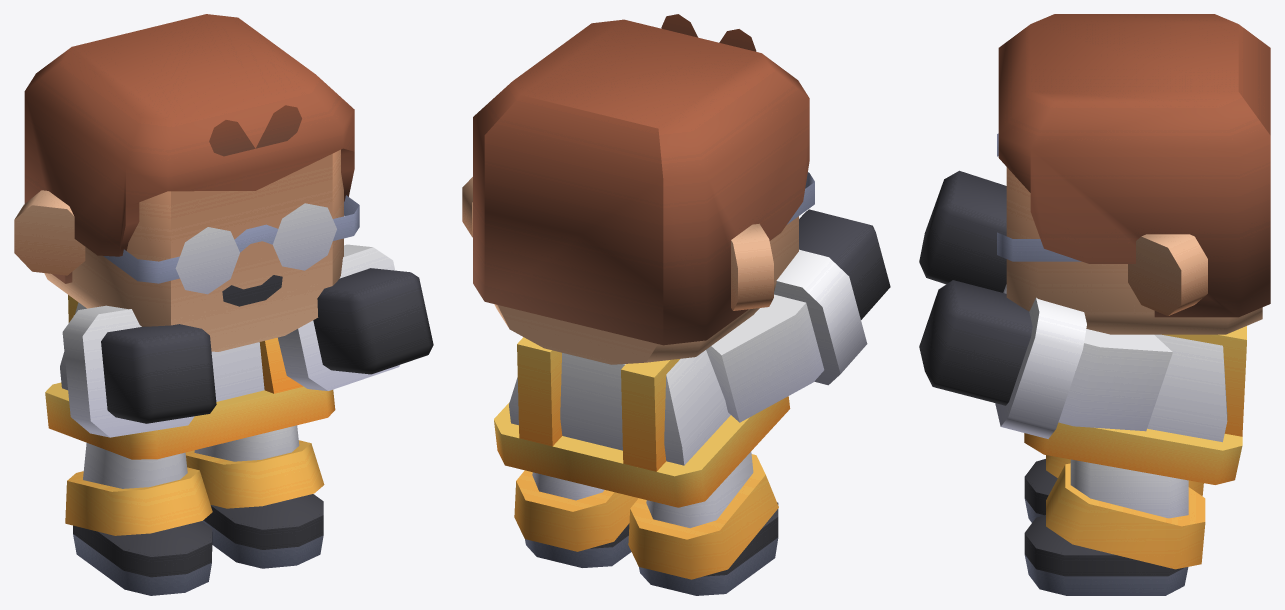
The model's file is character-male-e.glb.
3 renders of one model, left to right at view 1: azimuth 30°, elevation 25°; view 2: azimuth 150°, elevation 25°; view 3: azimuth 270°, elevation 25°, orthographic. The views are drawn at different scales.
Parts seen in each view (by area): view 1: head-mesh, body-mesh; view 2: head-mesh, body-mesh; view 3: head-mesh, body-mesh.
Boxes of the visible parts, left/top/right/bottom form: head-mesh: left=14, top=14, right=359, bottom=351; body-mesh: left=45, top=244, right=433, bottom=595; head-mesh: left=462, top=14, right=814, bottom=364; body-mesh: left=494, top=209, right=890, bottom=595; head-mesh: left=997, top=14, right=1270, bottom=334; body-mesh: left=919, top=170, right=1246, bottom=595.
Size of the model in its own units: 0.4757 by 0.6779 by 0.4391.
1 material, 1 textured.
